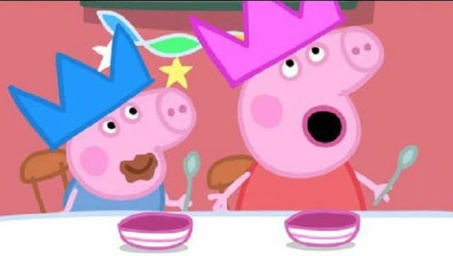Peppa: (195, 2, 395, 213)
